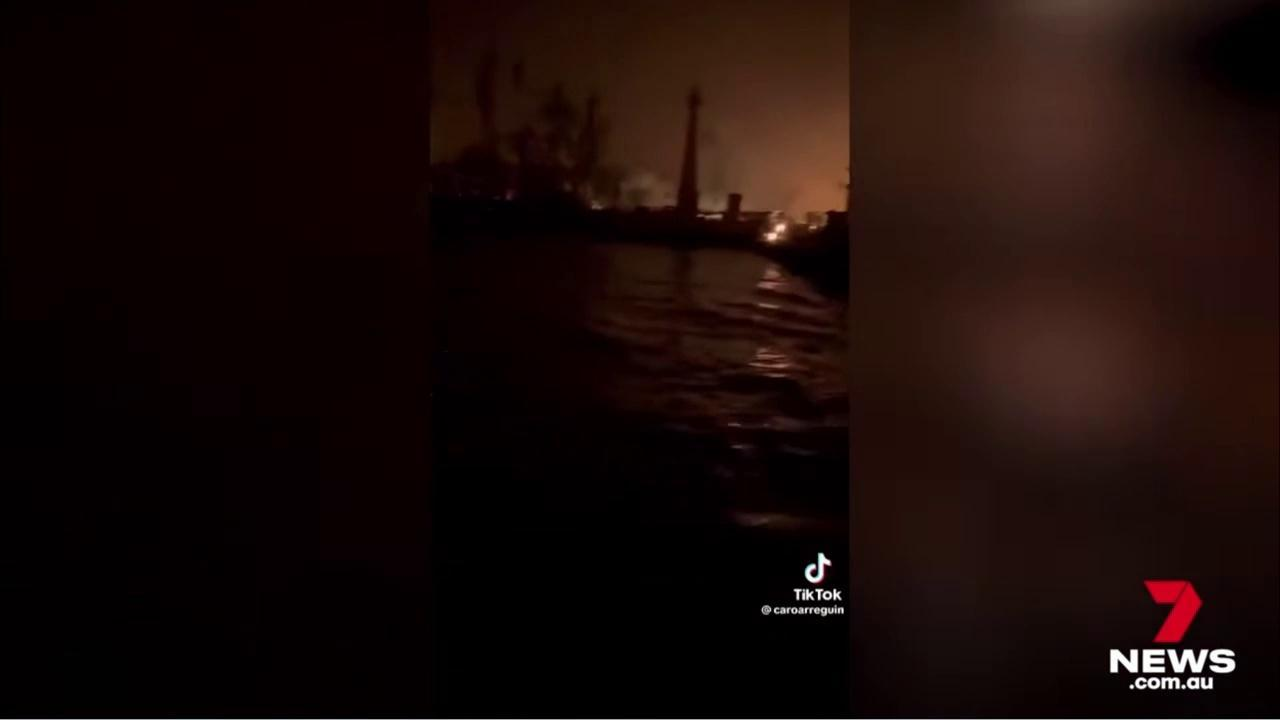fire: (766, 222, 787, 247)
smoke: (434, 1, 849, 225)
